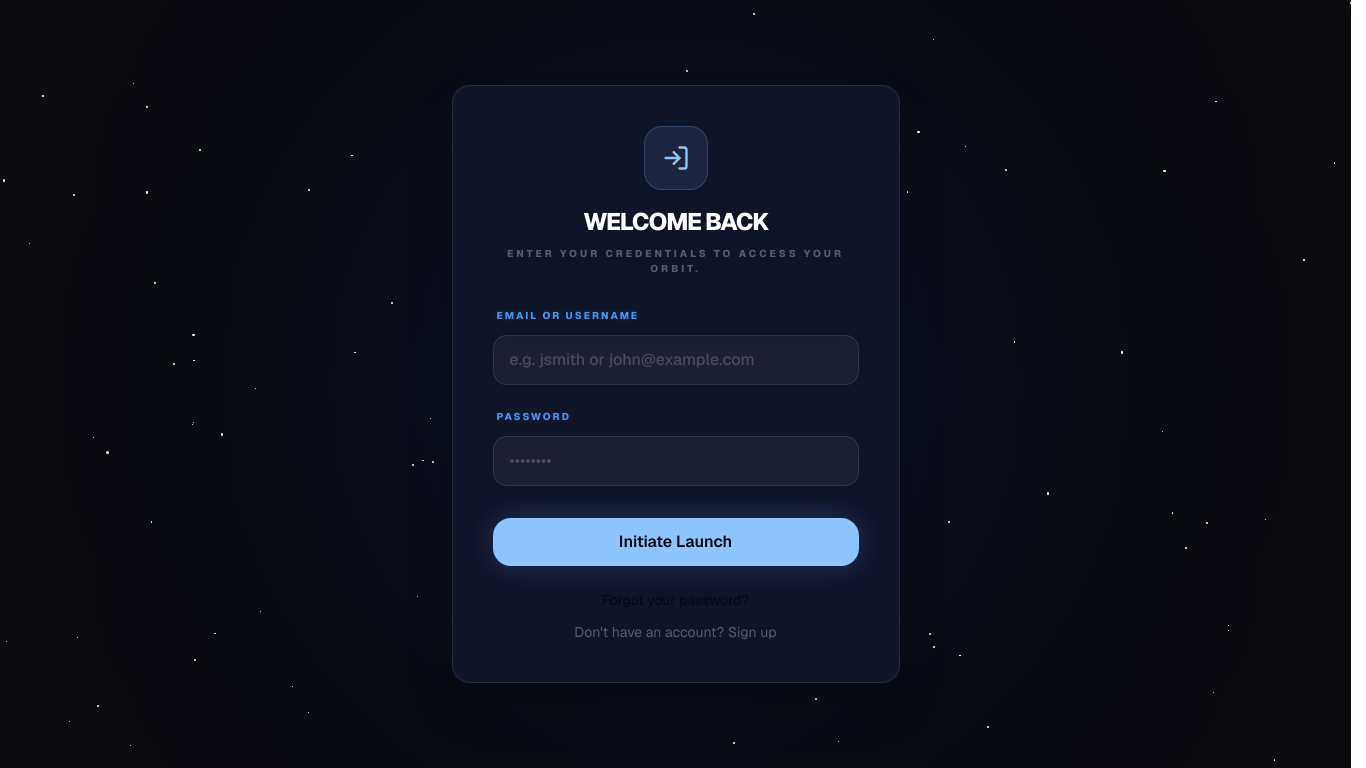
Scenario: LoginPage › shows unexpected error when preferences fetch json rejects
Step 1. Type "deeti" into the field with placeholder "e.g. jsmith or john@example.com" → (676, 360), box [492,335,858,385]
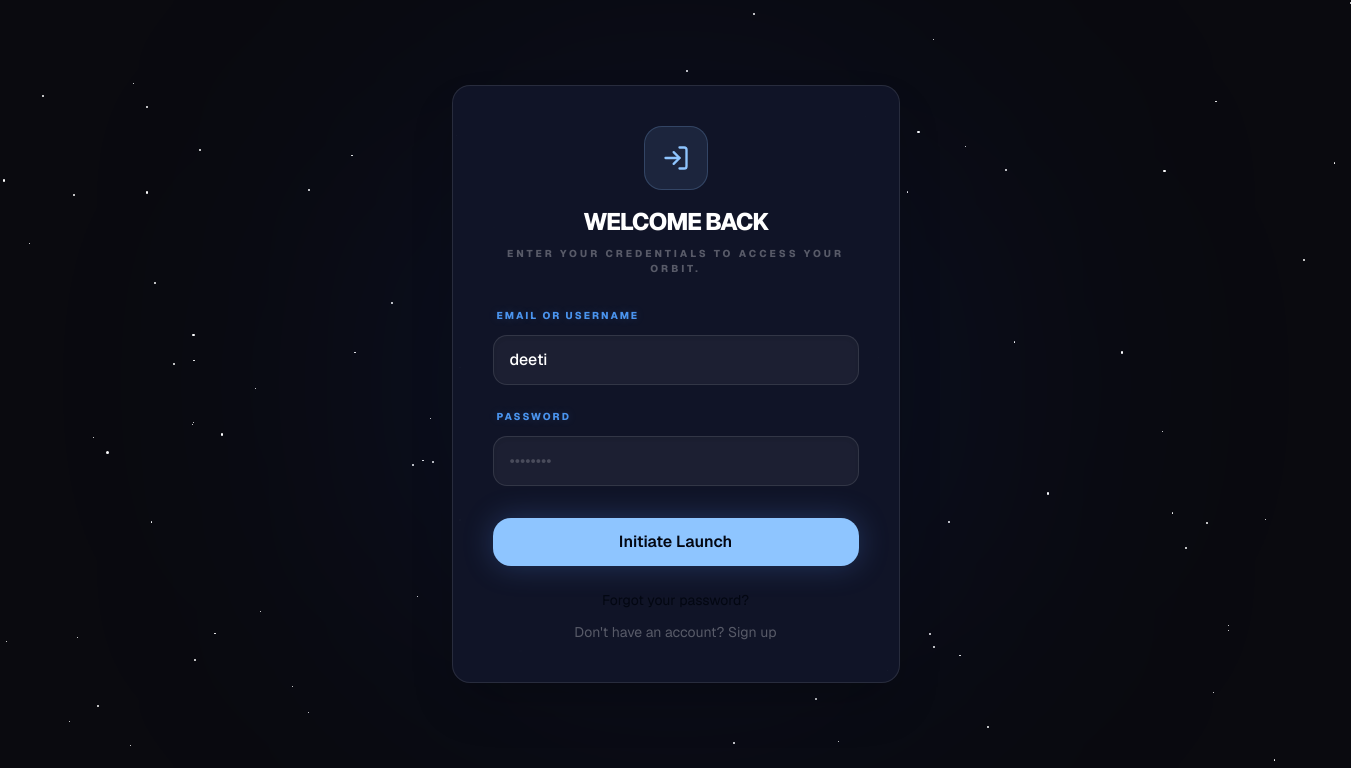
Step 2. Type "secret123" into the password field with placeholder "••••••••" → (676, 461), box [492,436,858,486]
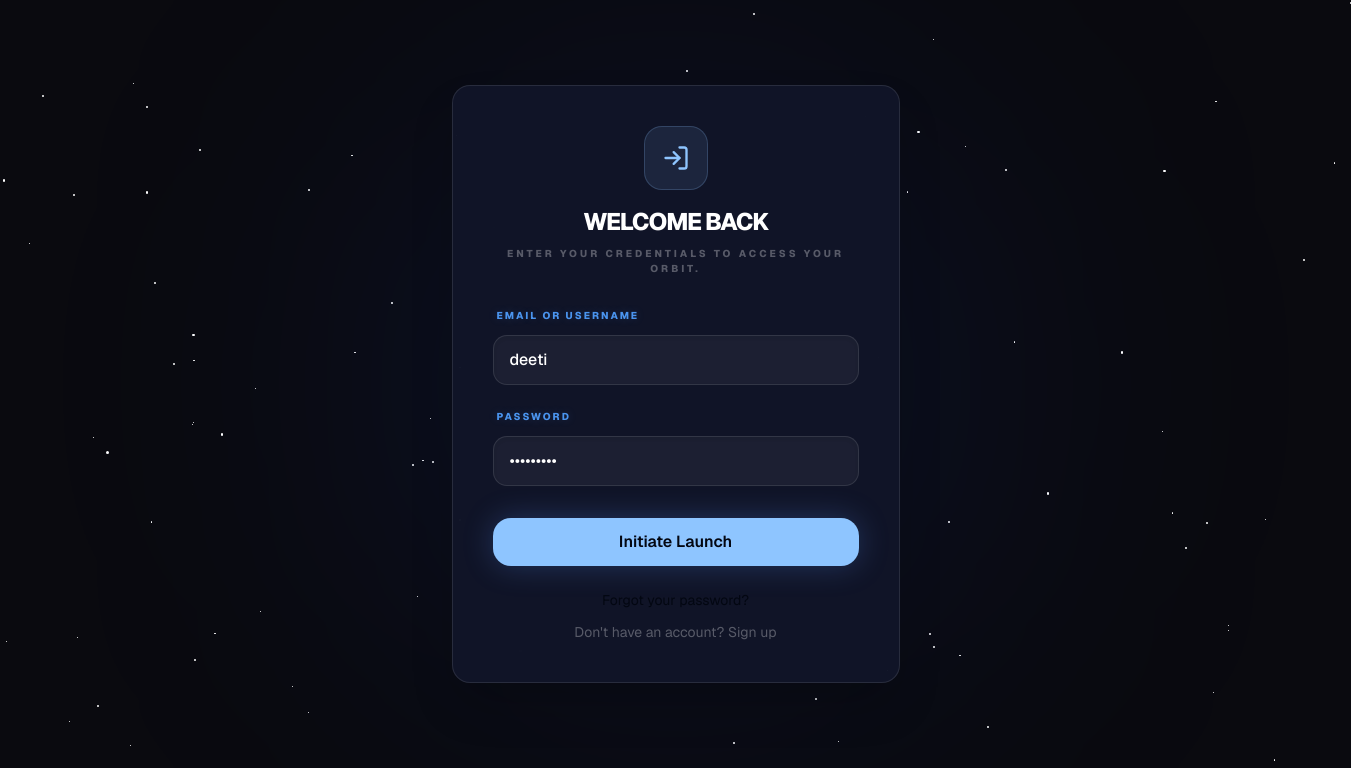
Step 3. Click the button "Initiate Launch" → (676, 542), box [492,518,858,566]
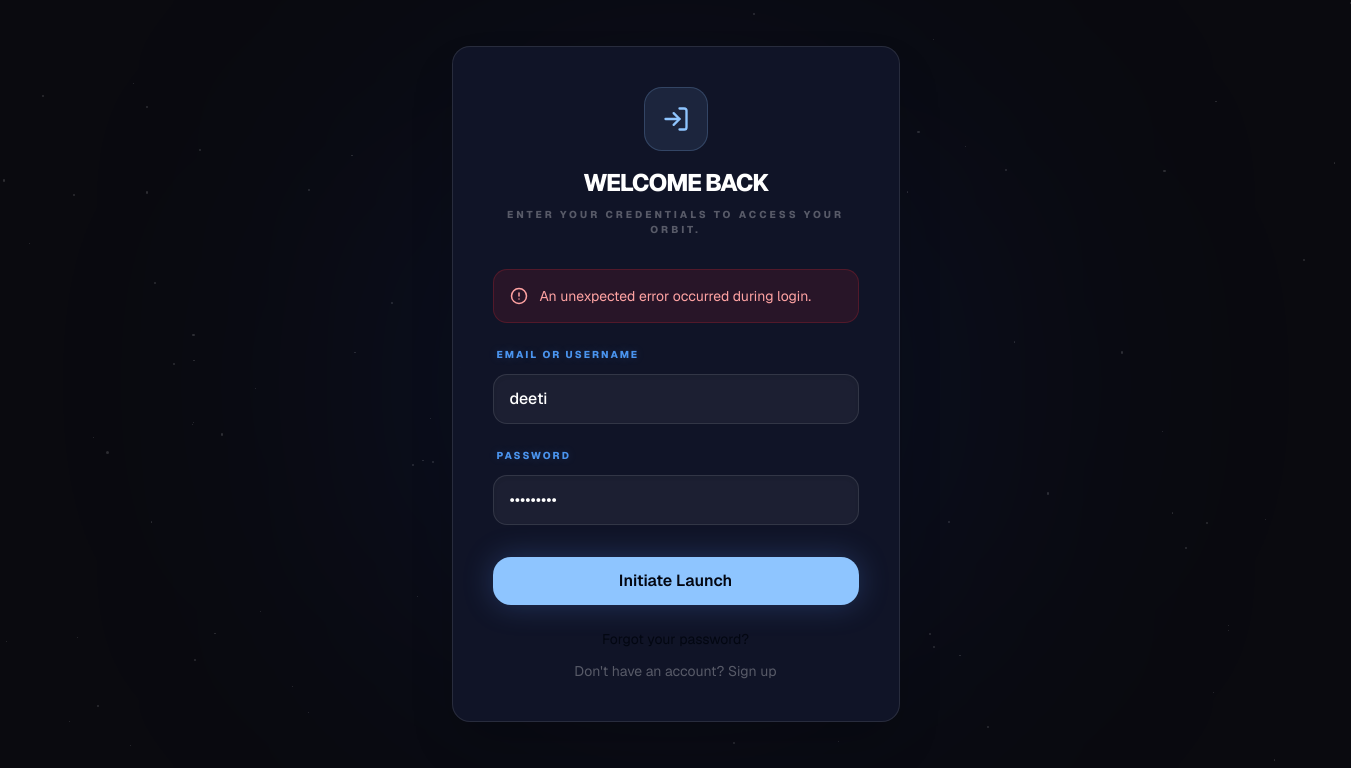
Expected: the text "An unexpected error occurred during login." is shown, [540,286,811,306]
